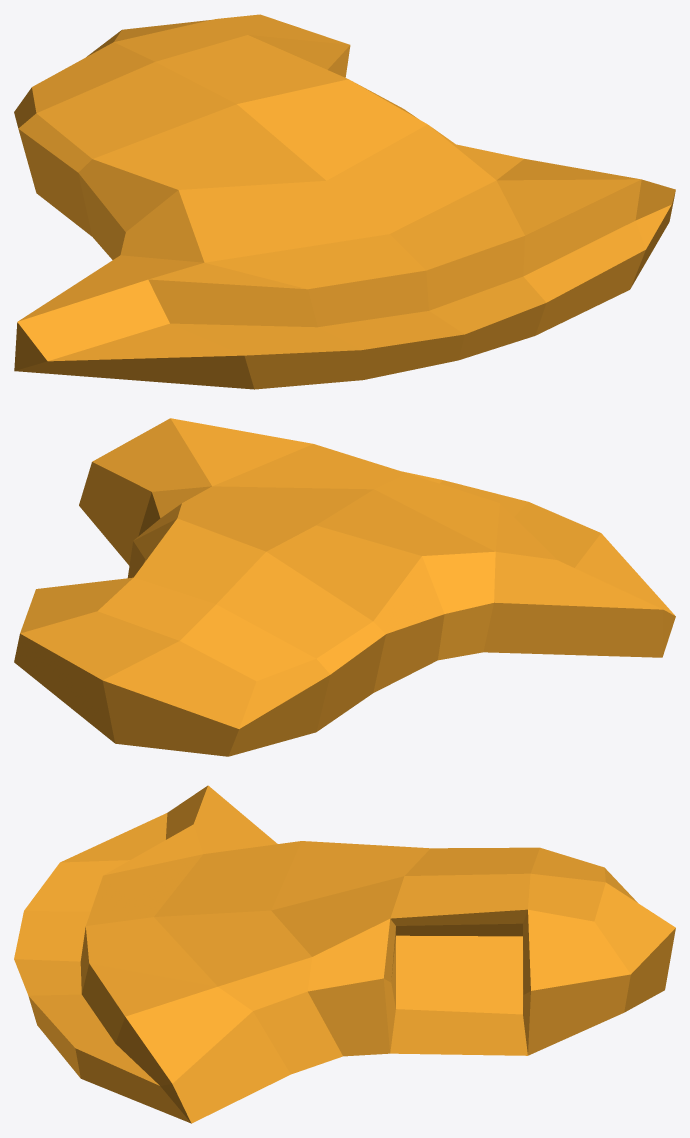
The model's file is SM_Coif_Chain_Placed.fbx.
3 views of the same model, one above another, from view 1: azimuth 30°, elevation 25°; view 2: azimuth 150°, elevation 25°; view 3: azimuth 270°, elevation 25° (orthographic). The views are drawn at different scales.
Visible parts, largest first — view 1: coif-chain-placed; view 2: coif-chain-placed; view 3: coif-chain-placed.
Boxes of the visible parts, x1,y1,x2,y2 form: coif-chain-placed: [14, 14, 675, 389]; coif-chain-placed: [14, 418, 675, 756]; coif-chain-placed: [14, 785, 675, 1123].
Bounding box in the file's own units: 0.4855 × 0.0839 × 0.4653.
